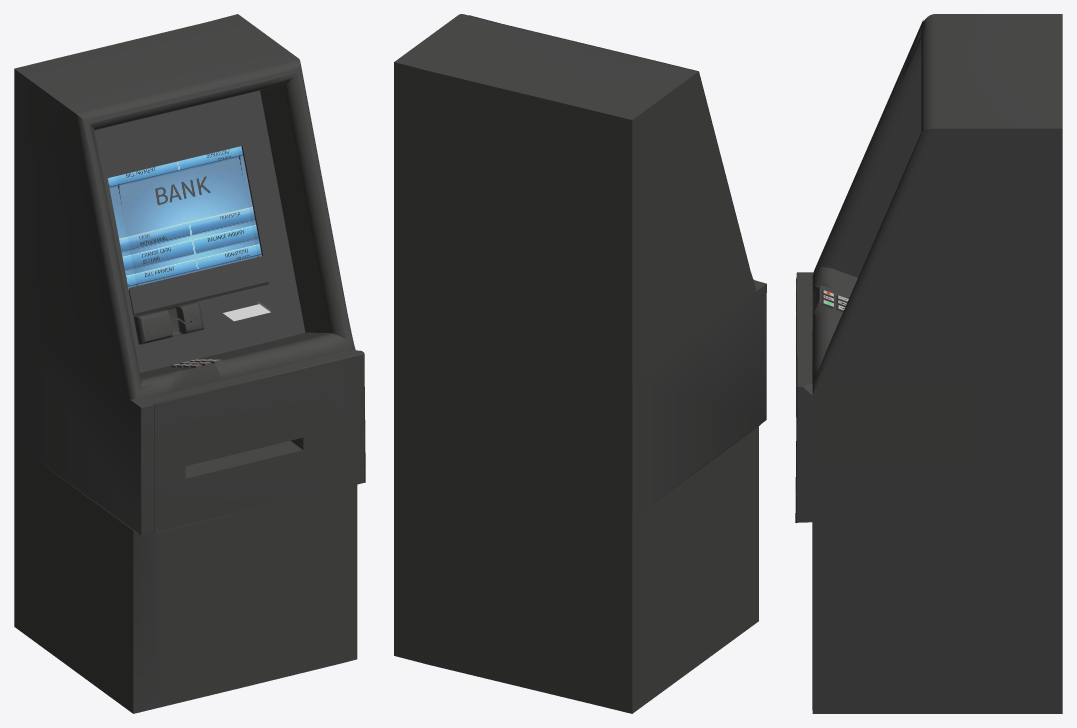
Rendered from atm.glb.
3 views of the same model, side by side, from view 1: azimuth 30°, elevation 25°; view 2: azimuth 150°, elevation 25°; view 3: azimuth 270°, elevation 25° (orthographic). The views are drawn at different scales.
Parts seen in each view (by area): view 1: Cube; view 2: Cube; view 3: Cube.
Boxes of the visible parts, x1,y1,x2,y2 form: Cube: [14, 14, 365, 713]; Cube: [394, 14, 766, 713]; Cube: [795, 14, 1062, 713].
Bounding box in the file's own units: 2.18 × 5.17 × 2.14.
4 materials, 3 textured.
